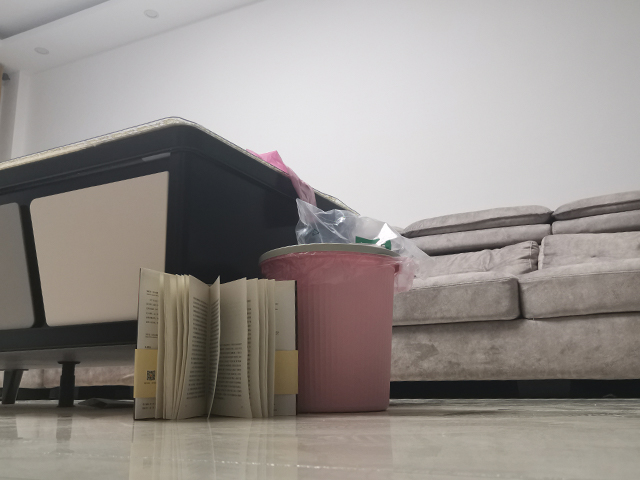book: (130, 263, 300, 423)
sofa: (387, 188, 640, 399)
table: (1, 114, 357, 407)
trashcan: (259, 240, 405, 414)
